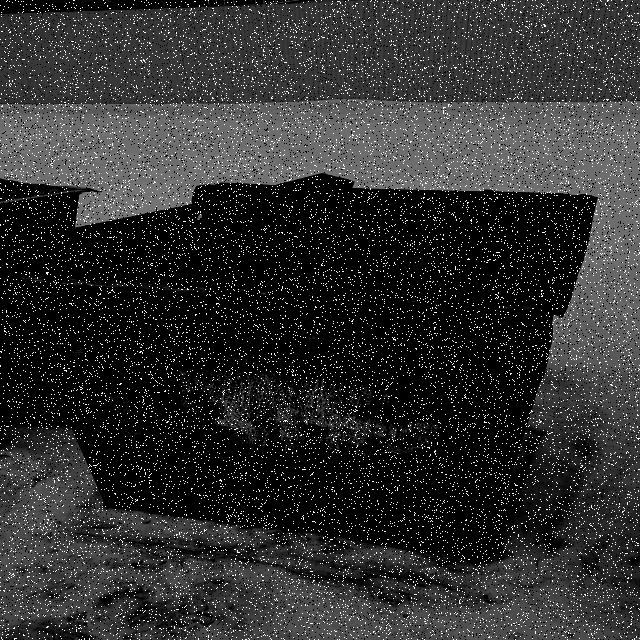Trashcan: (14, 145, 612, 573)
